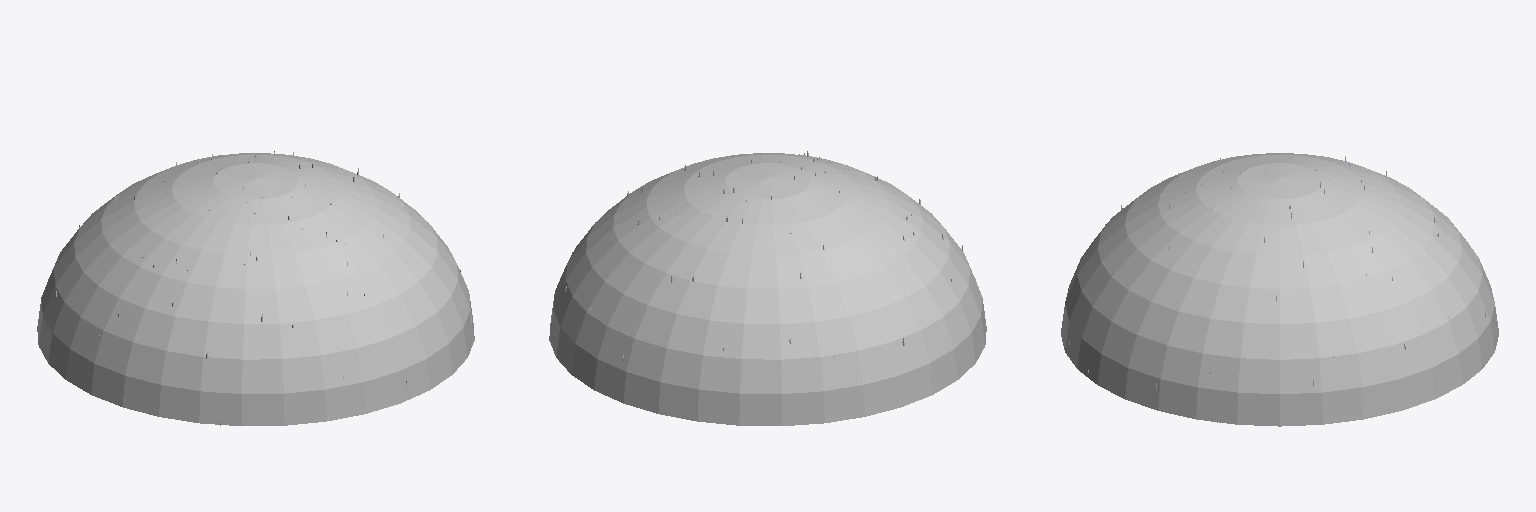
File: particule_000066.obj
The picture shows the model from 3 angles: view 1: azimuth 30°, elevation 25°; view 2: azimuth 150°, elevation 25°; view 3: azimuth 270°, elevation 25°; orthographic projection.
Visible parts, largest first — view 1: Sphère; view 2: Sphère; view 3: Sphère.
Boxes of the visible parts, x1=… form: Sphère: x1=37, y1=153, x2=474, y2=425; Sphère: x1=549, y1=153, x2=986, y2=425; Sphère: x1=1061, y1=153, x2=1498, y2=426.
Bounding box in the file's own units: 63430 × 25886 × 63430.